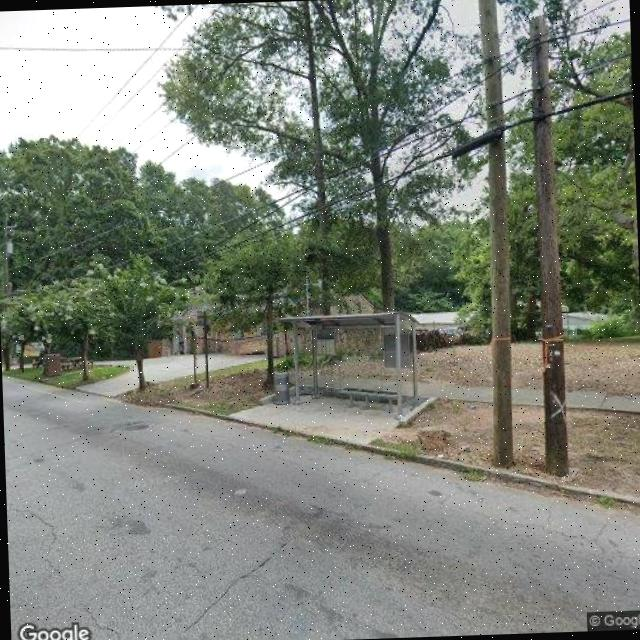seating: (339, 384, 398, 416)
shelter: (279, 308, 424, 426)
trash_can: (273, 369, 291, 405)
